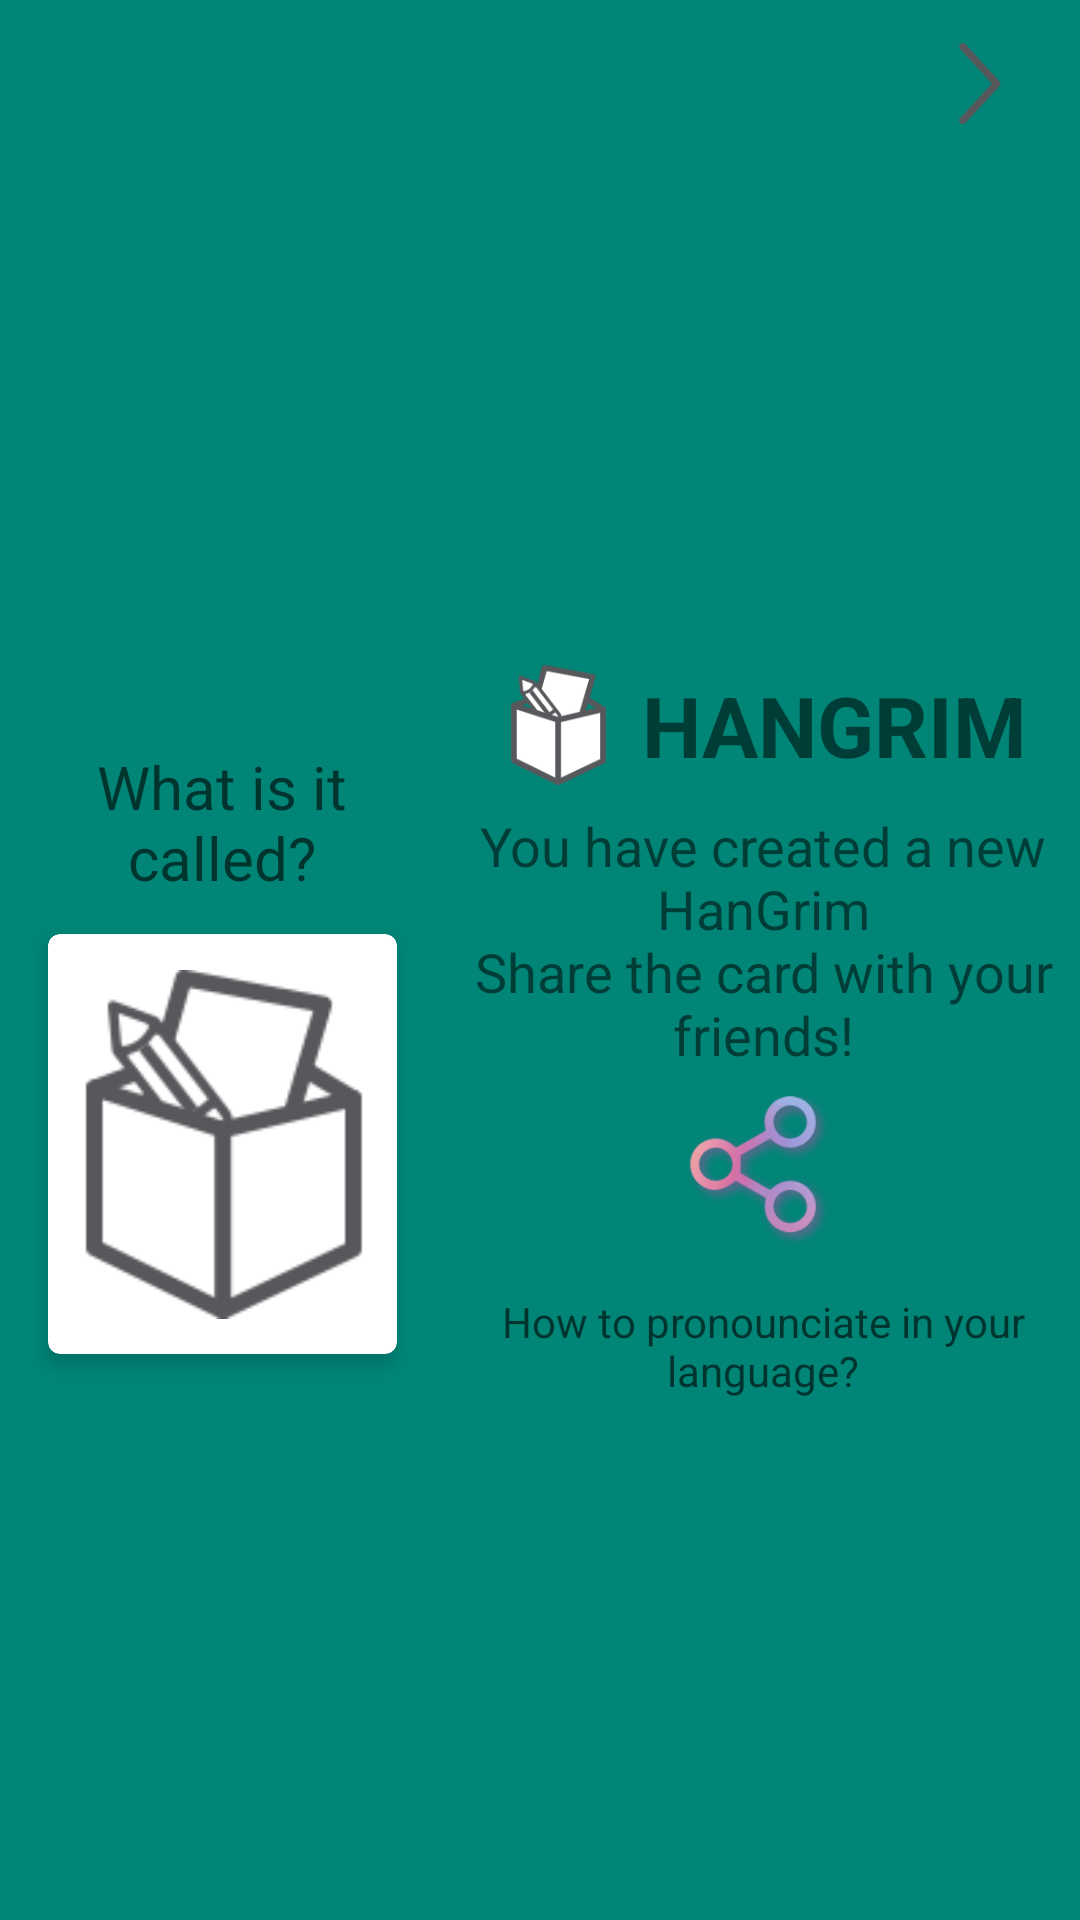

Where icons sit on this 1080w x 1920h app screen, as [x1, y1, x2, y2]:
hgpaint action next: [959, 43, 1001, 124]
